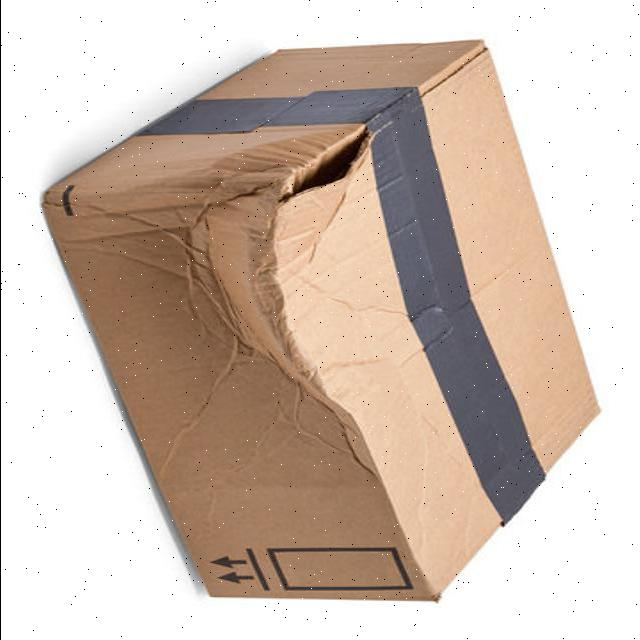defect: (41, 33, 601, 612)
